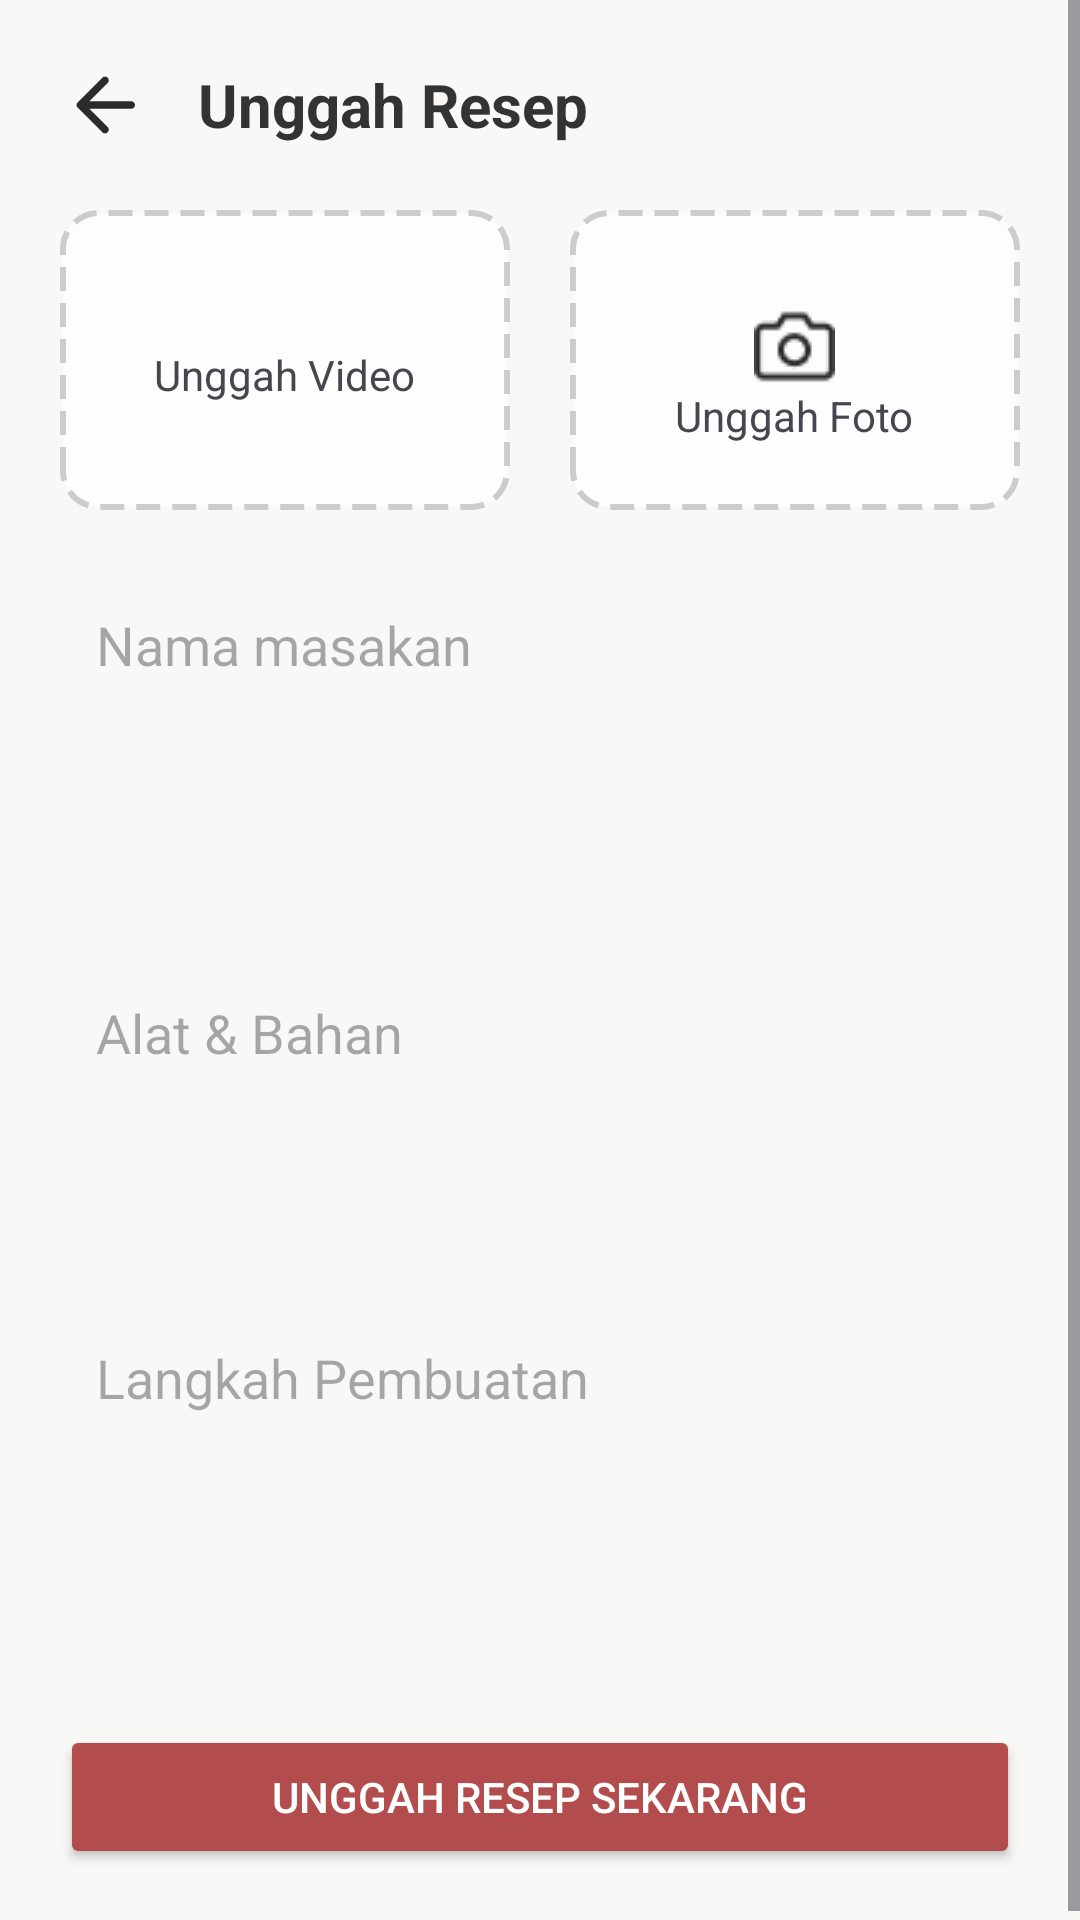

Where to tap for icons on this 1080×1920 app screen, as point (x, y):
Back: point (105, 105)
